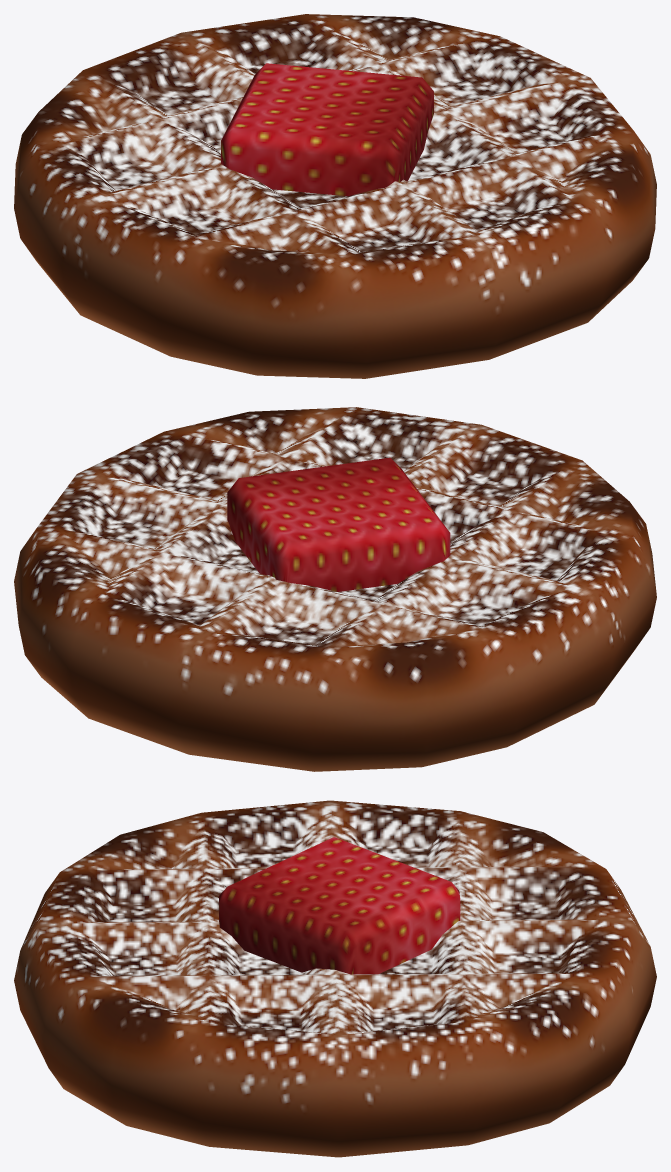
The model's file is 009-Waffles01.FBX.
The picture shows the model from 3 angles, top to bottom: view 1: azimuth 30°, elevation 25°; view 2: azimuth 150°, elevation 25°; view 3: azimuth 270°, elevation 25°; orthographic projection.
Parts seen in each view (by area): view 1: 009-Waffles01; view 2: 009-Waffles01; view 3: 009-Waffles01.
Boxes of the visible parts, x1,y1,x2,y2 form: 009-Waffles01: (14, 14, 656, 378); 009-Waffles01: (14, 407, 656, 771); 009-Waffles01: (14, 800, 656, 1157).
Bounding box in the file's own units: 18.17 × 4.71 × 18.42.
